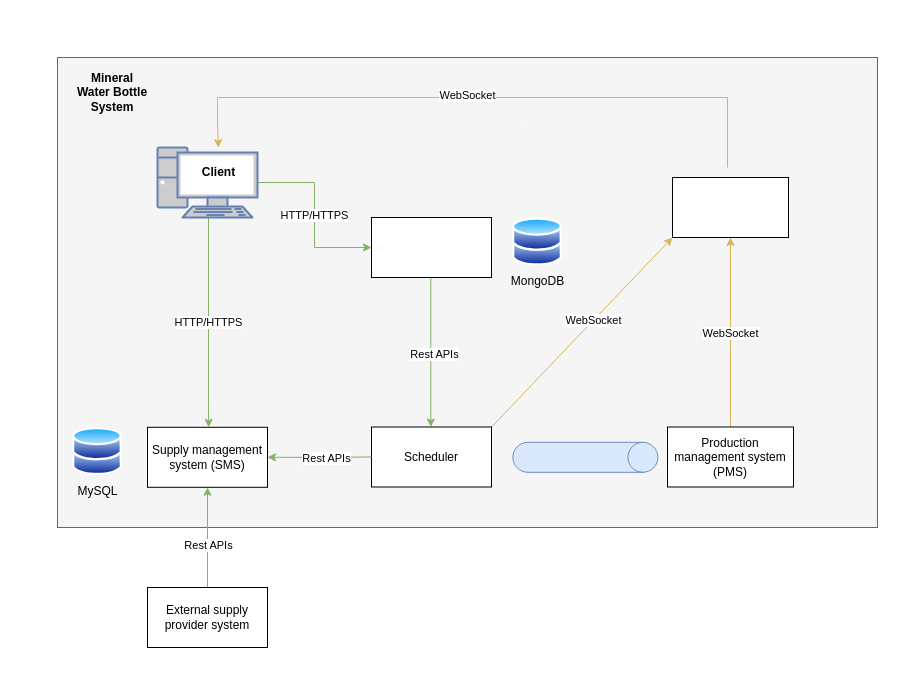
The diagram is 924 pixels wide and 684 high, and some of its shapes have lost their labels. Each missing label, with the centre of its shape:
Logging: point 730,207
MQTT: point 585,456
Order management system (OMS): point 431,247
